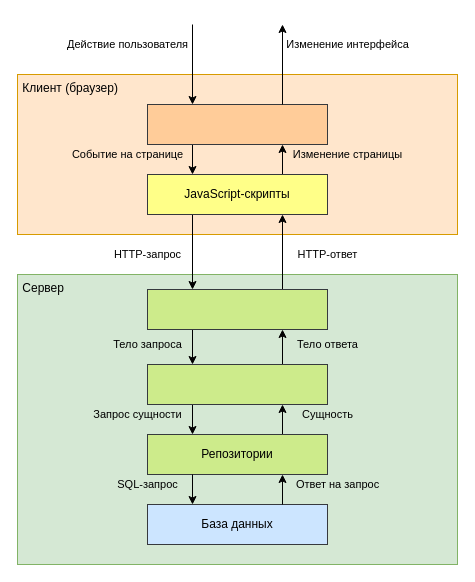
This 475x582 diagram has some shape labels left out. The shapes that lost their labels are listed below. From the top down, each one's centre as x and y in pixels, then its label:
At point 237,124: "Веб-страница".
At point 237,309: "REST-контроллеры".
At point 237,384: "Сервисы".
